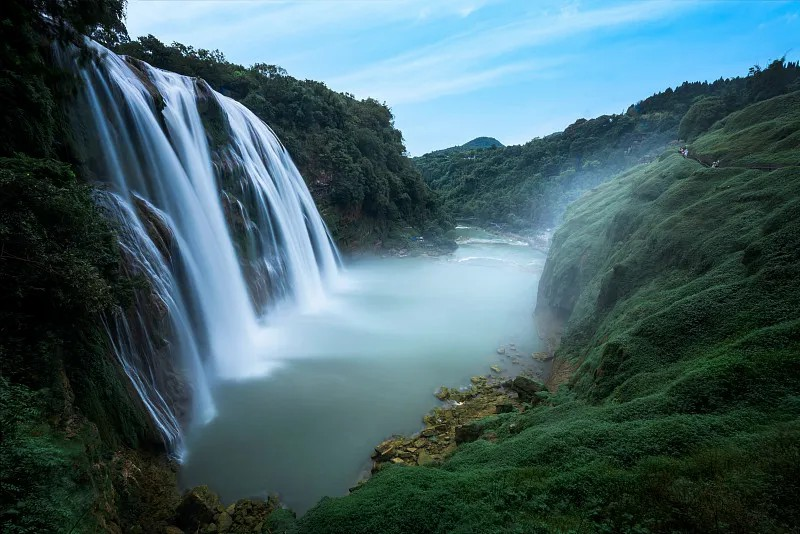Huangguoshu: (71, 33, 344, 448)
